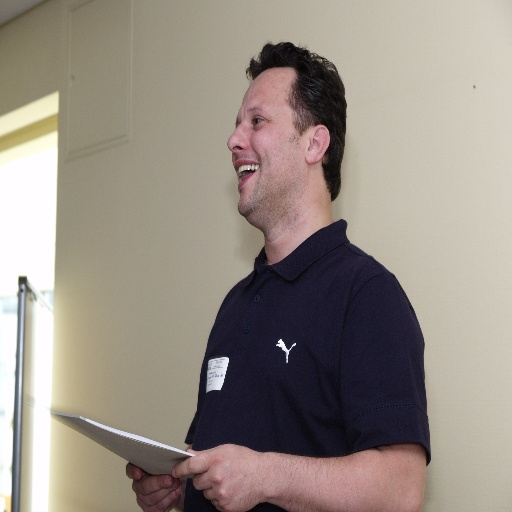hand: (162, 442, 300, 503), (124, 461, 183, 511)
